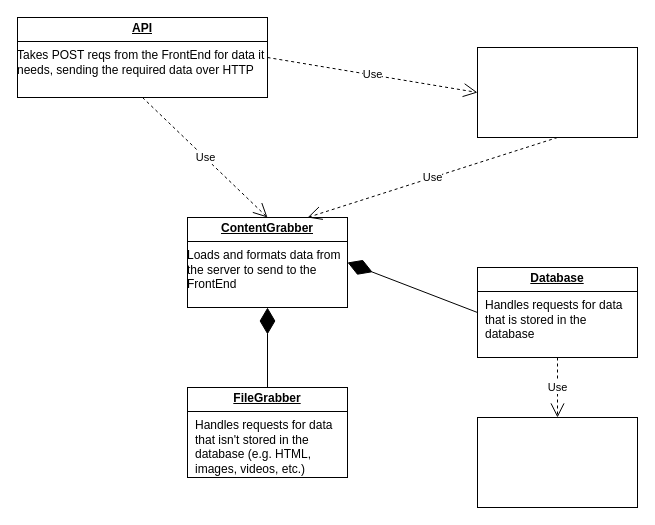
This 655x525 diagram has some shape labels left out. Each missing label, with the box of its shape:
Sanitizer Sanitizes any data that will be used in a DB query: (476, 416, 638, 508)
Setup Initializes the content grabber: (476, 46, 638, 138)
